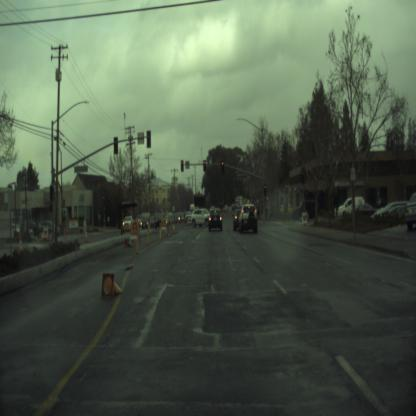Red: (300, 170, 304, 182), (284, 184, 288, 192), (203, 160, 206, 170), (222, 160, 224, 172), (264, 184, 266, 196)
RedLeft: (180, 160, 184, 170), (102, 194, 105, 205)
